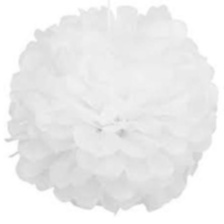tissue: (0, 0, 224, 221)
